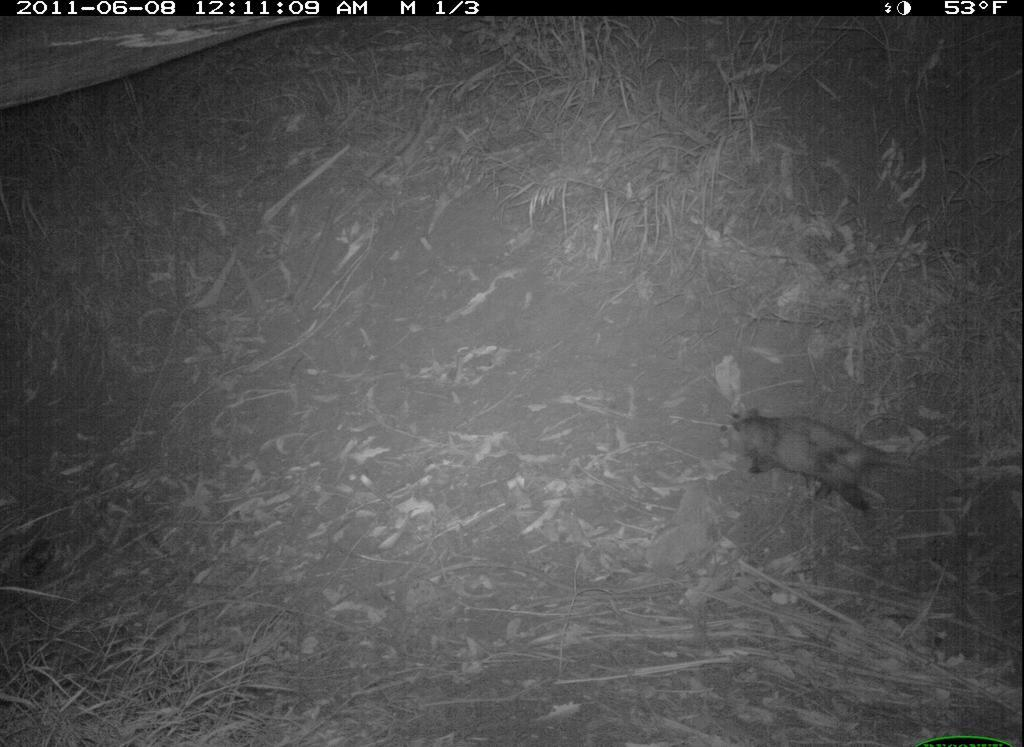opossum: (713, 404, 940, 519)
